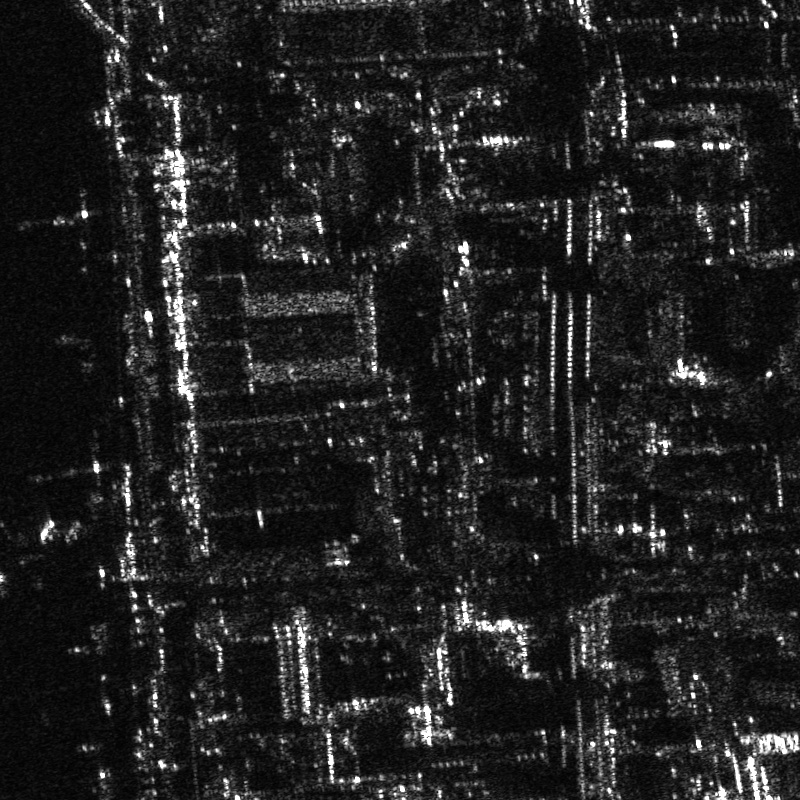A220: (1, 500, 88, 600)
